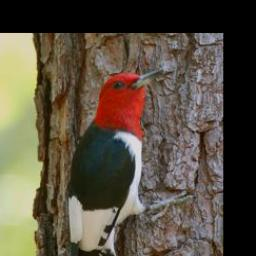Woodpecker: (65, 68, 195, 256)
